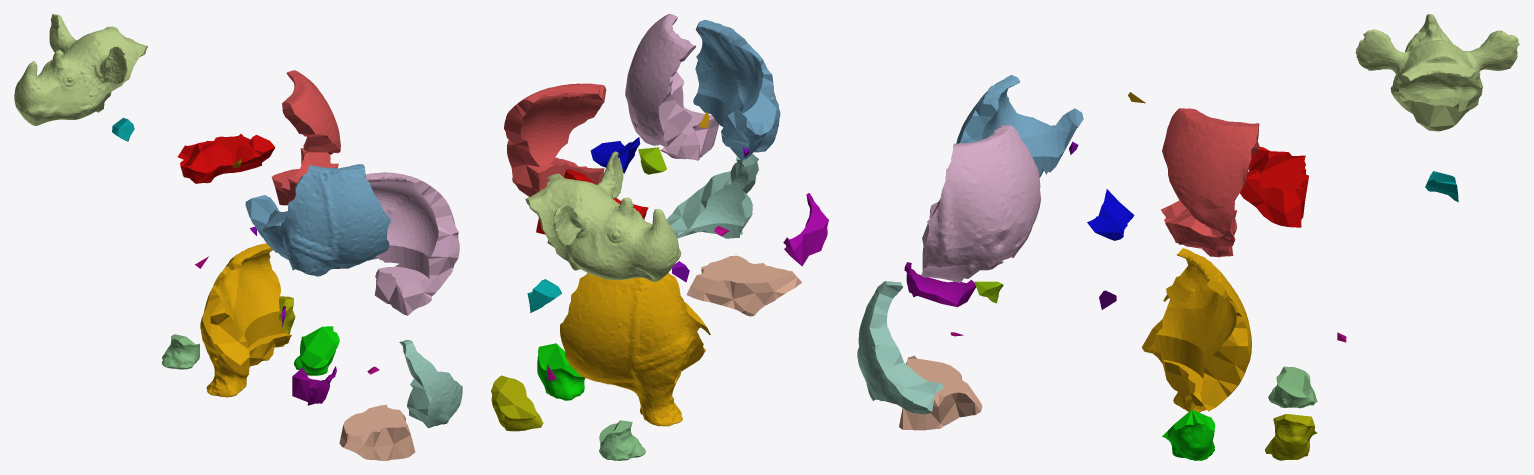
The model's file is fractured_7_20pcs_transformed.glb.
3 renders of one model, left to right at view 1: azimuth 30°, elevation 25°; view 2: azimuth 150°, elevation 25°; view 3: azimuth 270°, elevation 25°, orthographic. The views are drawn at different scales.
Visible parts, largest first — view 1: piece_2.obj, piece_6.obj, piece_0.obj, piece_5.obj, piece_1.obj, piece_7.obj, piece_9.obj, piece_4.obj, piece_8.obj, piece_12.obj, piece_3.obj, piece_11.obj; view 2: piece_0.obj, piece_5.obj, piece_2.obj, piece_6.obj, piece_1.obj, piece_4.obj, piece_7.obj, piece_11.obj, piece_8.obj, piece_12.obj, piece_3.obj, piece_10.obj (+3 smaller); view 3: piece_6.obj, piece_0.obj, piece_1.obj, piece_5.obj, piece_4.obj, piece_2.obj, piece_9.obj, piece_7.obj, piece_8.obj, piece_11.obj, piece_12.obj, piece_3.obj (+1 smaller).
Boxes of the visible parts, left/top/right/bottom form: piece_2.obj: left=245, top=164, right=391, bottom=276; piece_6.obj: left=365, top=172, right=459, bottom=315; piece_0.obj: left=200, top=243, right=291, bottom=397; piece_5.obj: left=14, top=14, right=147, bottom=125; piece_1.obj: left=271, top=70, right=340, bottom=205; piece_7.obj: left=339, top=404, right=415, bottom=460; piece_9.obj: left=177, top=134, right=275, bottom=183; piece_4.obj: left=399, top=340, right=462, bottom=427; piece_8.obj: left=294, top=326, right=339, bottom=375; piece_12.obj: left=292, top=366, right=336, bottom=405; piece_3.obj: left=161, top=334, right=199, bottom=369; piece_11.obj: left=276, top=296, right=295, bottom=347; piece_0.obj: left=560, top=273, right=710, bottom=426; piece_5.obj: left=525, top=151, right=681, bottom=281; piece_2.obj: left=693, top=20, right=780, bottom=160; piece_6.obj: left=625, top=14, right=718, bottom=160; piece_1.obj: left=504, top=83, right=606, bottom=196; piece_4.obj: left=666, top=153, right=758, bottom=238; piece_7.obj: left=686, top=255, right=801, bottom=316; piece_11.obj: left=491, top=375, right=543, bottom=431; piece_8.obj: left=537, top=343, right=585, bottom=400; piece_12.obj: left=783, top=193, right=828, bottom=266; piece_3.obj: left=599, top=420, right=645, bottom=460; piece_10.obj: left=590, top=137, right=640, bottom=173; piece_6.obj: left=921, top=125, right=1040, bottom=282; piece_0.obj: left=1142, top=248, right=1251, bottom=412; piece_1.obj: left=1161, top=108, right=1259, bottom=257; piece_5.obj: left=1355, top=14, right=1519, bottom=131; piece_4.obj: left=857, top=281, right=943, bottom=414; piece_2.obj: left=956, top=75, right=1083, bottom=177; piece_9.obj: left=1240, top=147, right=1308, bottom=227; piece_7.obj: left=899, top=356, right=982, bottom=430; piece_8.obj: left=1162, top=409, right=1215, bottom=460; piece_11.obj: left=1265, top=414, right=1317, bottom=460; piece_12.obj: left=904, top=262, right=975, bottom=307; piece_3.obj: left=1268, top=366, right=1317, bottom=408.
Bounding box in the file's own units: 1 × 1.21 × 2.04.
